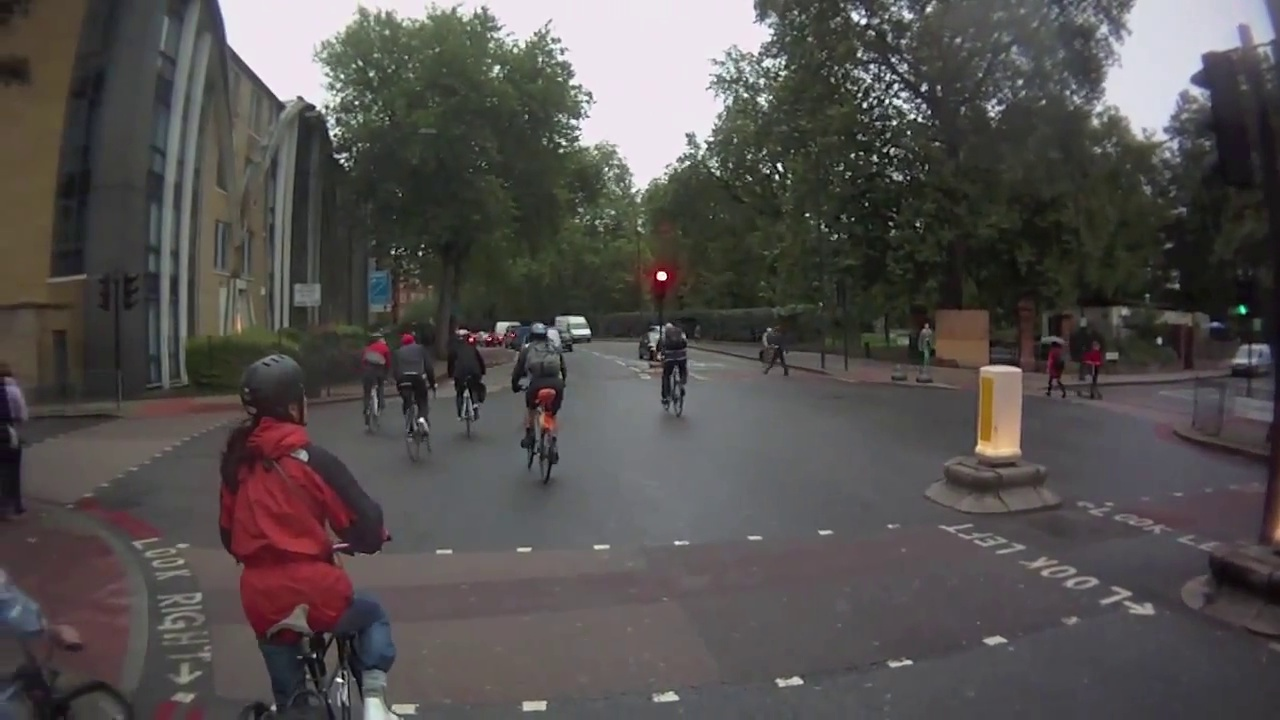cyclist_back: (515, 324, 562, 485), (396, 332, 440, 467), (450, 316, 494, 439), (358, 330, 393, 435), (657, 319, 692, 423)
